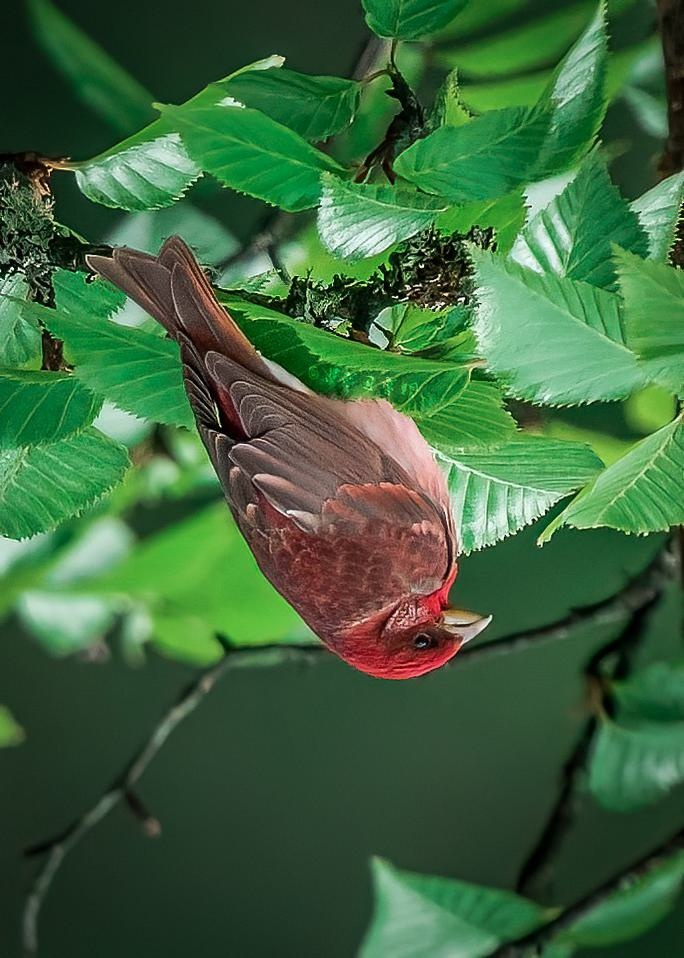rosefinch: (120, 251, 502, 673)
